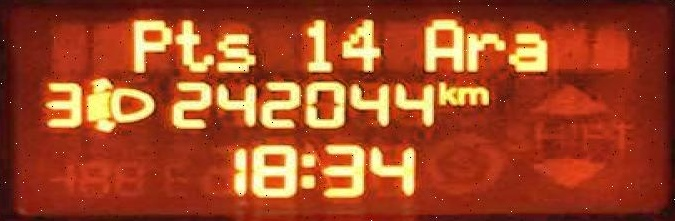0: (302, 78, 343, 129)
1: (304, 13, 334, 76), (225, 143, 249, 199)
2: (167, 76, 208, 133), (260, 76, 300, 130)
3: (319, 141, 364, 198), (43, 75, 82, 130)
4: (365, 140, 417, 199), (339, 16, 389, 76), (392, 78, 433, 128), (214, 79, 255, 128), (347, 80, 388, 126)
8: (249, 141, 295, 198)
X: (420, 14, 462, 70), (129, 16, 169, 72), (175, 16, 212, 72), (504, 29, 549, 74), (213, 30, 257, 74), (464, 27, 504, 72), (457, 82, 488, 106), (299, 147, 314, 192), (435, 76, 455, 105)
